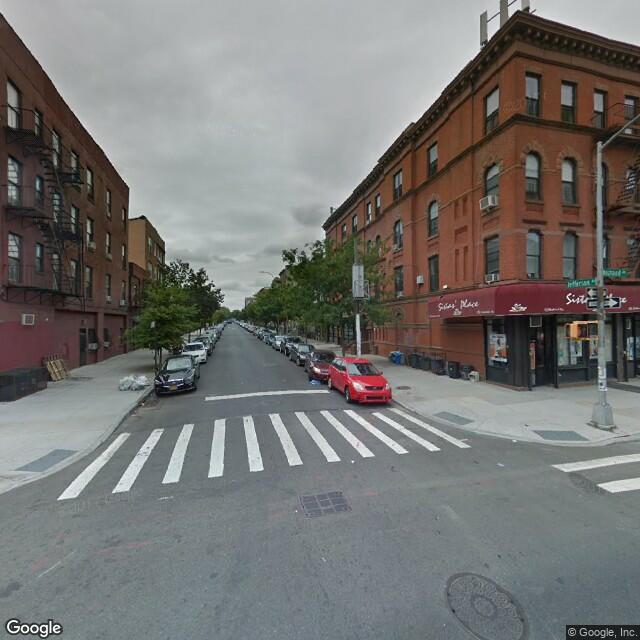litter: (31, 354, 72, 380), (118, 371, 149, 397), (467, 368, 481, 386)
